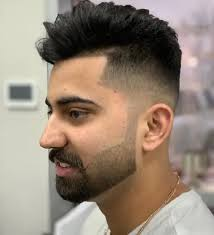b.y: (48, 148, 93, 202)
